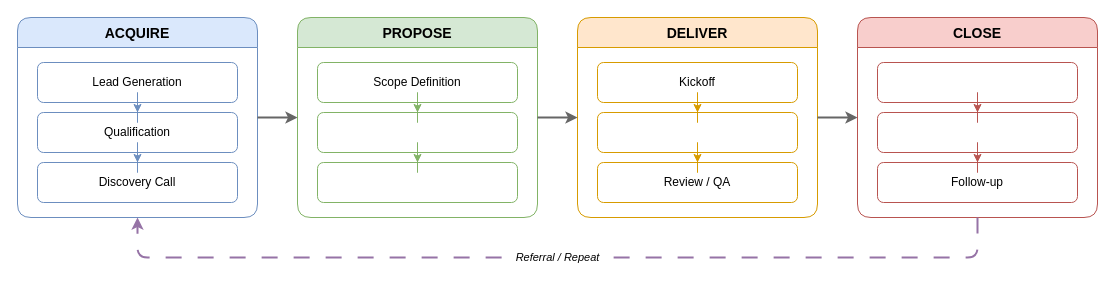
Some shapes in this 1115 by 284 pixel diagram are drawn without their labels. Each missing label, with the centre of its shape:
Execution: the point at 697,132
Handoff / Delivery: the point at 977,82
Invoice: the point at 977,132
Negotiation: the point at 417,182
Proposal / Quote: the point at 417,132
